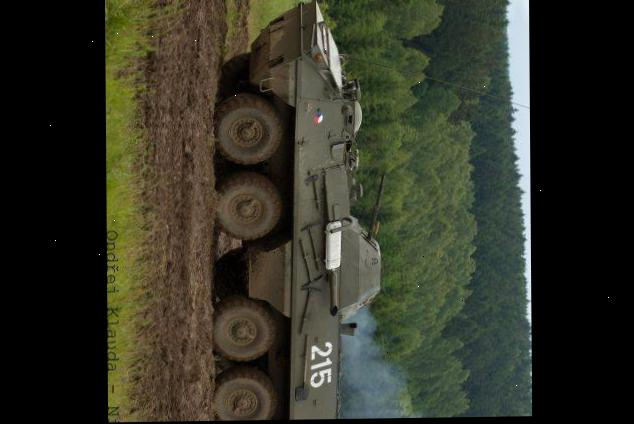tank: (208, 0, 388, 421)
